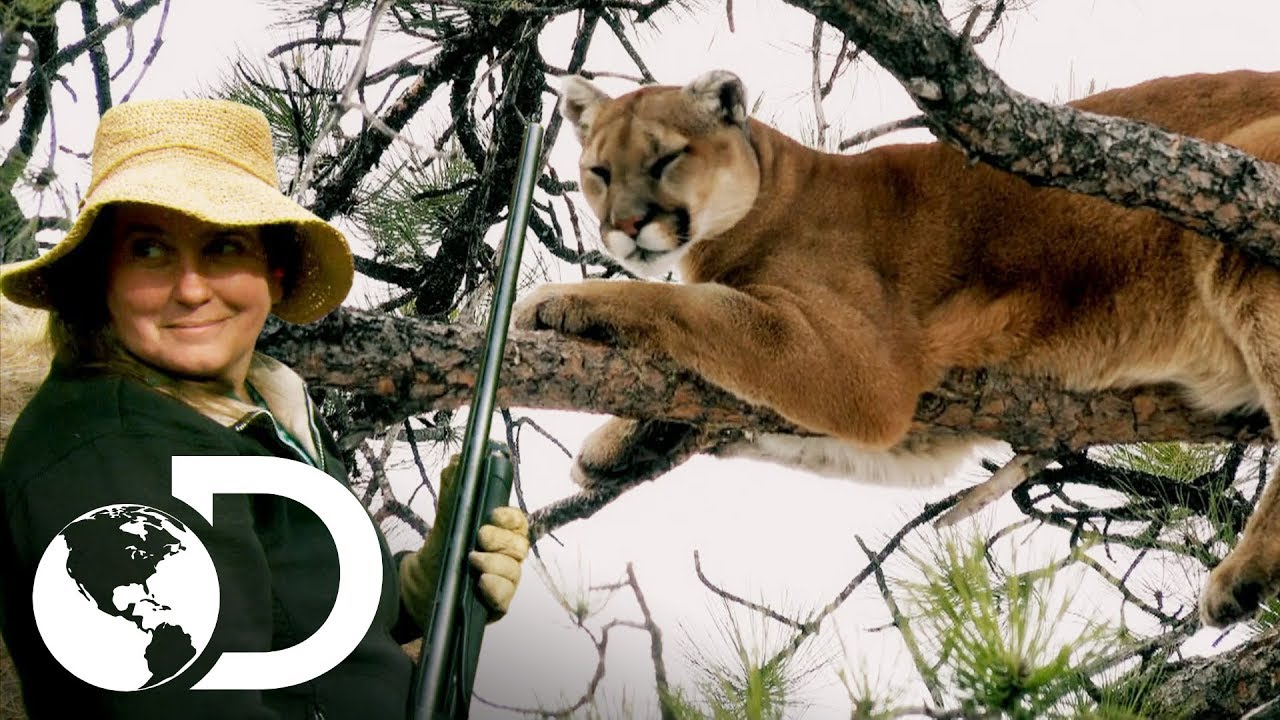OncaParda: (545, 69, 1268, 585)
